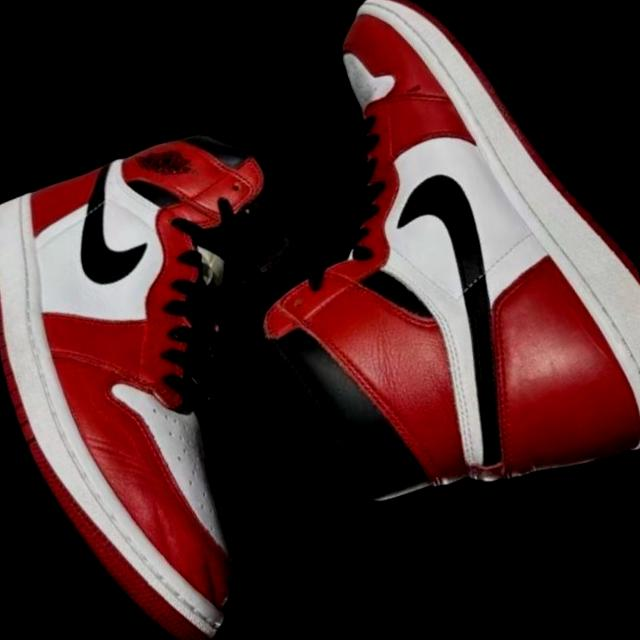nike_original_jordan: (129, 0, 640, 615), (0, 57, 465, 640)
